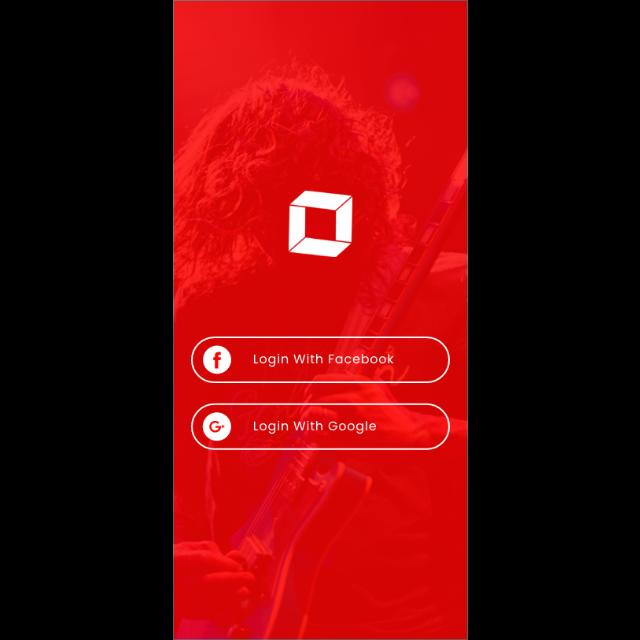backgroundimage: (173, 1, 467, 640)
image: (288, 191, 352, 257)
textbutton: (190, 336, 450, 384), (191, 404, 449, 451)
